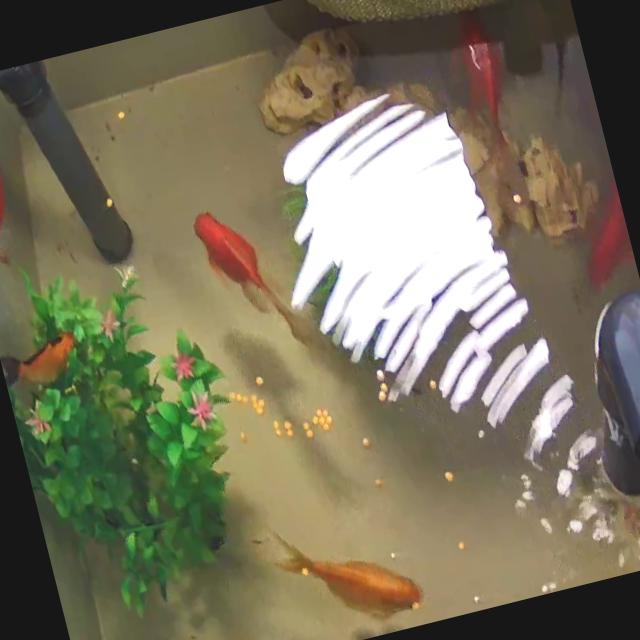fish: (165, 139, 318, 379), (535, 68, 640, 325), (255, 499, 442, 640), (0, 314, 109, 409), (448, 4, 520, 145), (0, 104, 33, 281)
